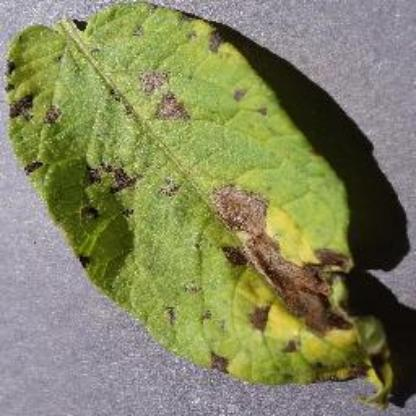Early-Blight: (11, 6, 400, 402)
